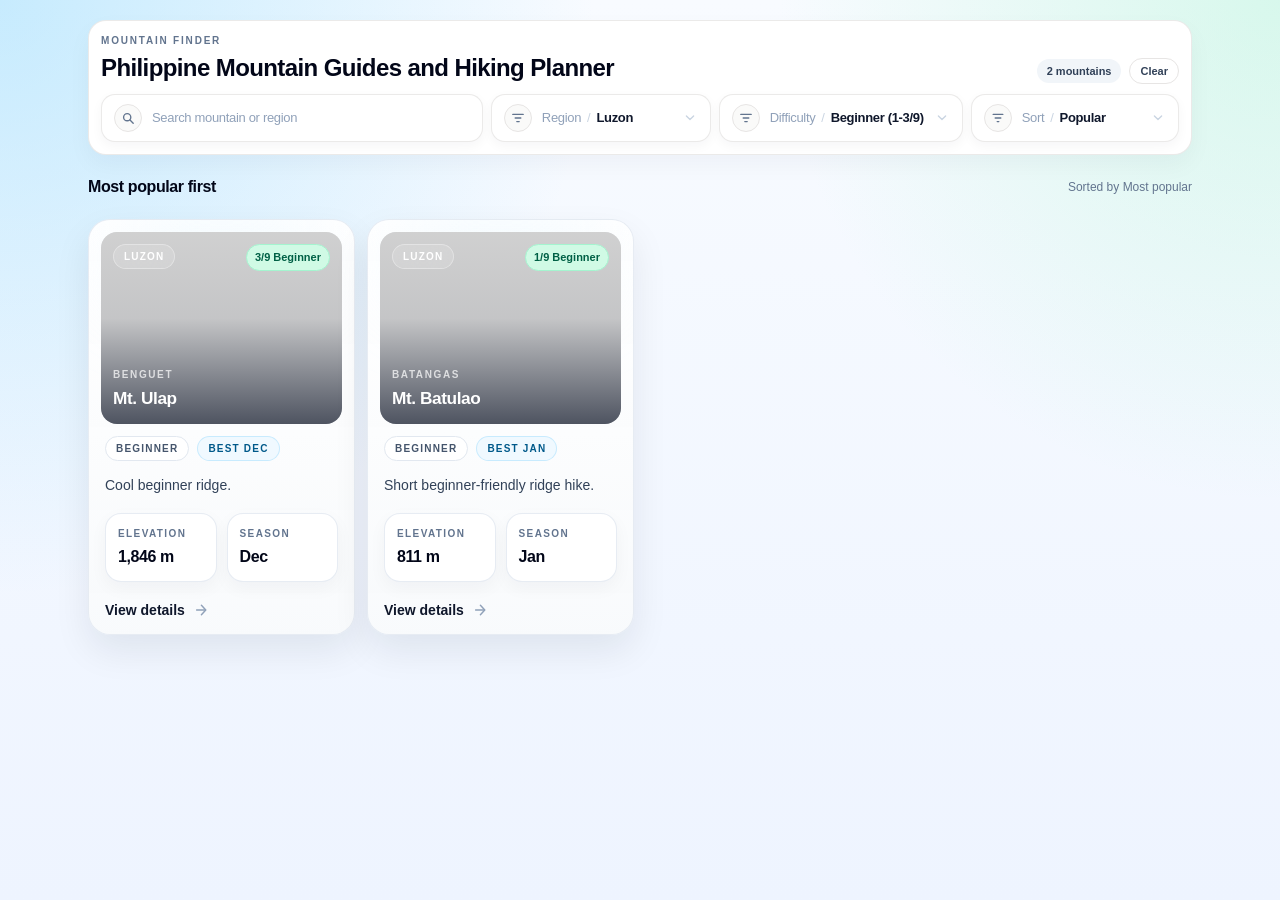
MountainListClient › still lets search narrow results after the lighter first-load defaults
The image size is (1280, 900).
Type "Ulap" into the field named "Search mountains". click: (311,118)
box: 152,108 -> 470,128
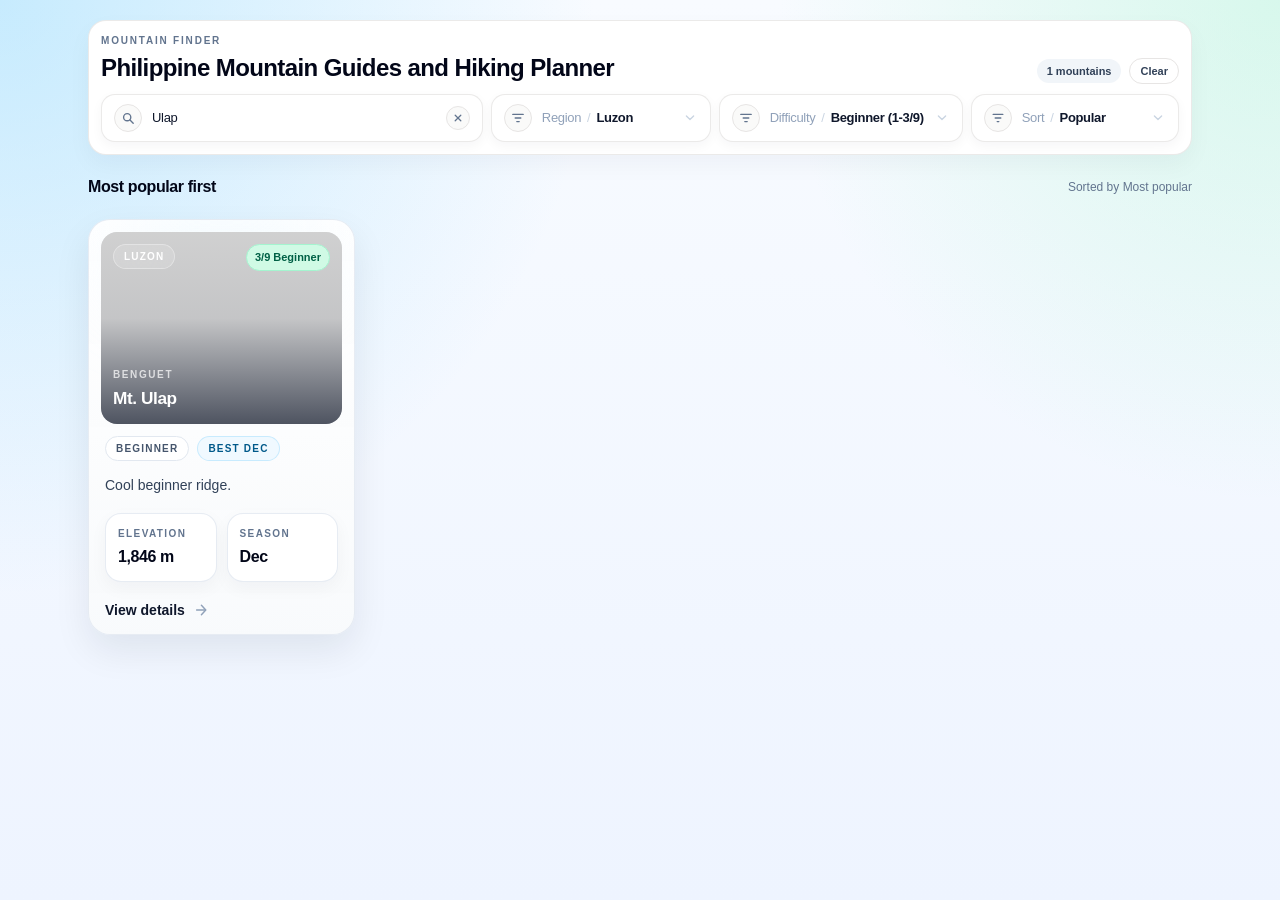
Expected: the heading "Mt. Ulap" is shown, 113,386 -> 177,412
Expected: the heading "Mt. Batulao" is gone
